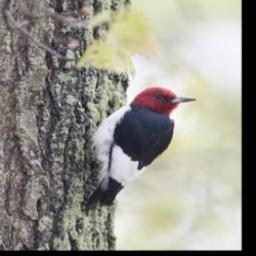Woodpecker: (88, 85, 198, 208)
